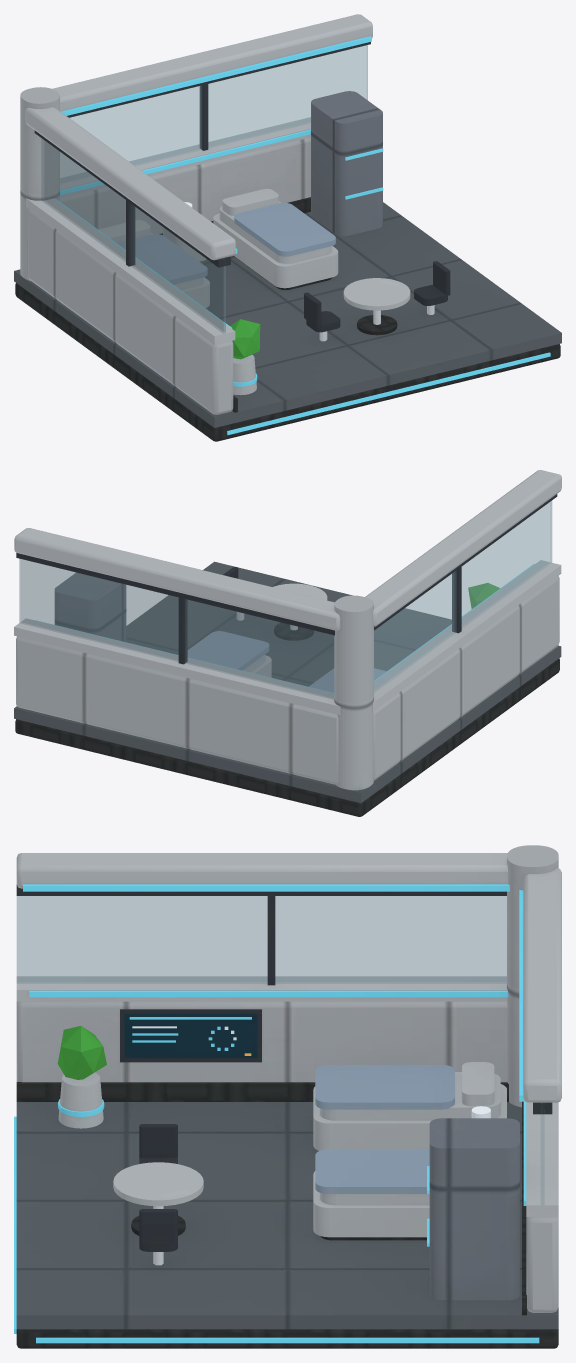
Rendered from enterprise_habitat_t2.glb.
The picture shows the model from 3 angles, top to bottom: view 1: azimuth 30°, elevation 25°; view 2: azimuth 150°, elevation 25°; view 3: azimuth 270°, elevation 25°; orthographic projection. The views are drawn at different scales.
Visible parts, largest first — view 1: te_enterprise_habitat_t2; view 2: te_enterprise_habitat_t2; view 3: te_enterprise_habitat_t2.
Part boxes in pixels (bbox=[...]): te_enterprise_habitat_t2: bbox=[14, 14, 561, 441]; te_enterprise_habitat_t2: bbox=[14, 470, 561, 816]; te_enterprise_habitat_t2: bbox=[14, 845, 561, 1348].
Bounding box in the file's own units: 0.849 × 0.472 × 0.849.
2 materials, 1 textured.
